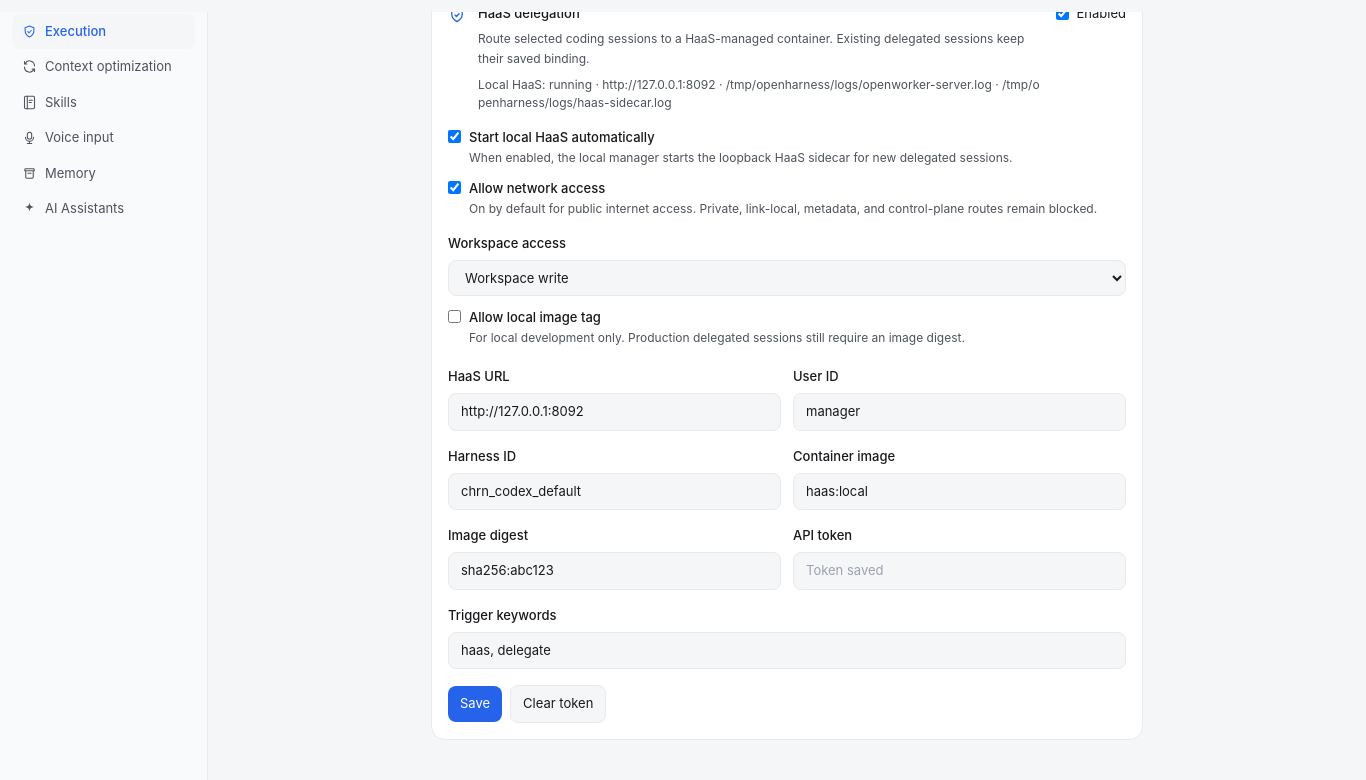
Test case: SettingsView HaaS delegation settings › shows a local error when the settings update request fails
This screenshot has width=1366, height=780.
(page scrolled)
What coordinates should you click on to do the following:
click the button with test id "haas-save"
I would click on:
 (475, 704)
Its box is [448,686,502,722].
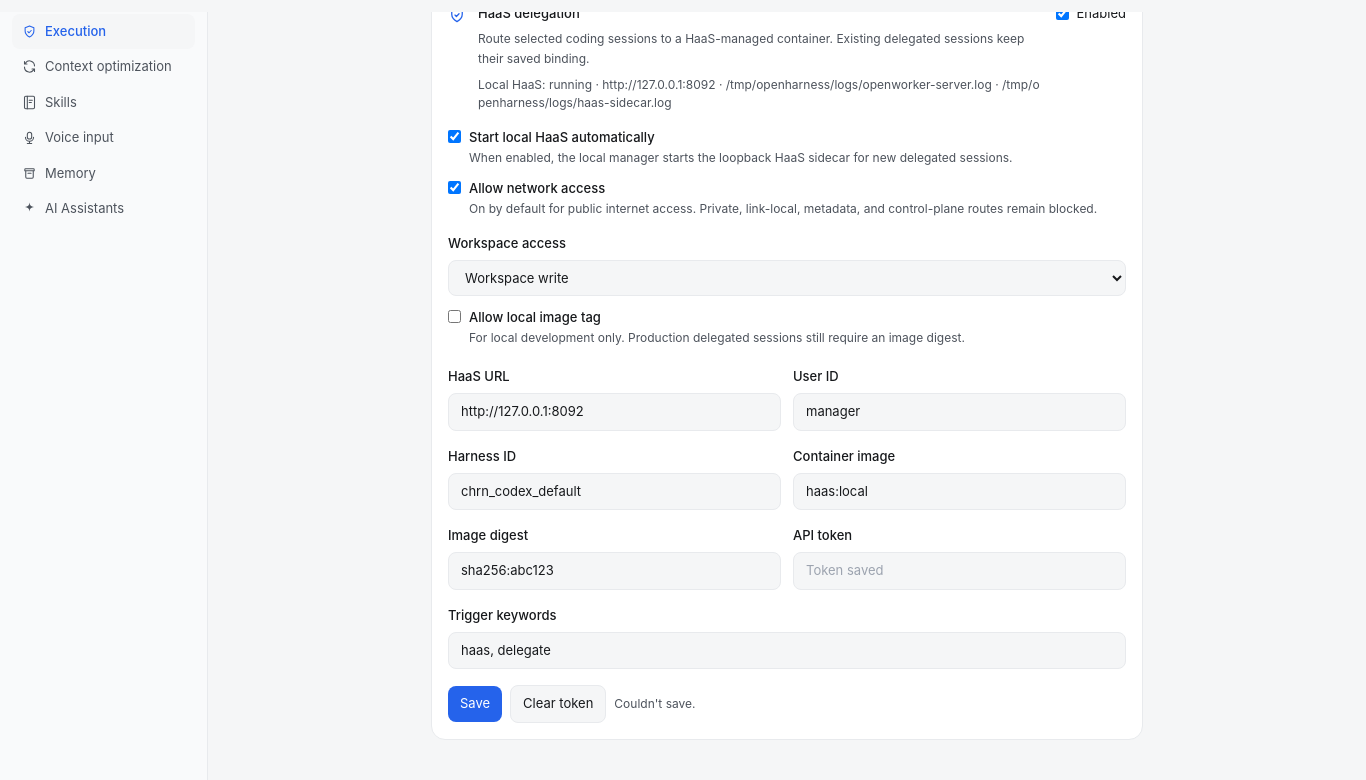
Expected: the text "Couldn't save." is shown, [614,695,696,713]
